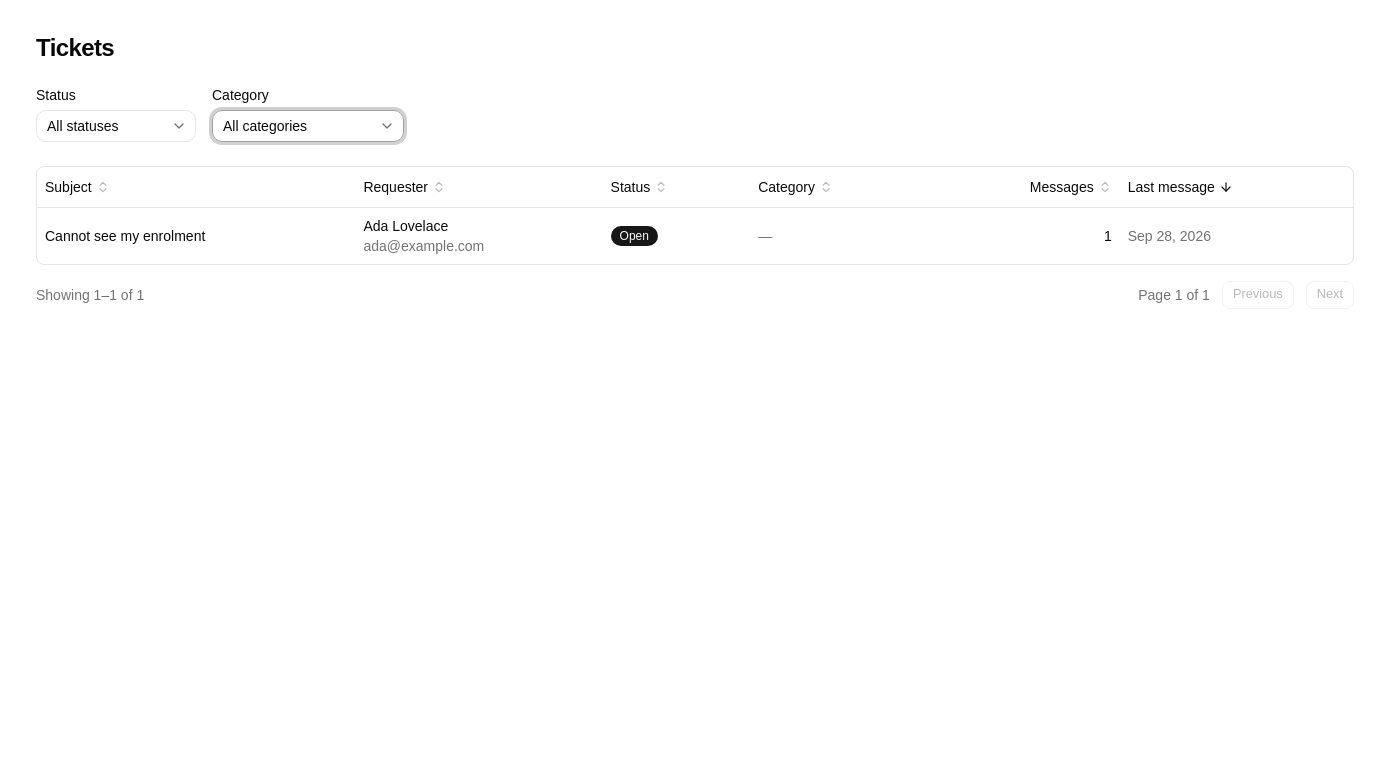
Test: TicketsPage › filters for uncategorised tickets through the select
Press Arrowdown
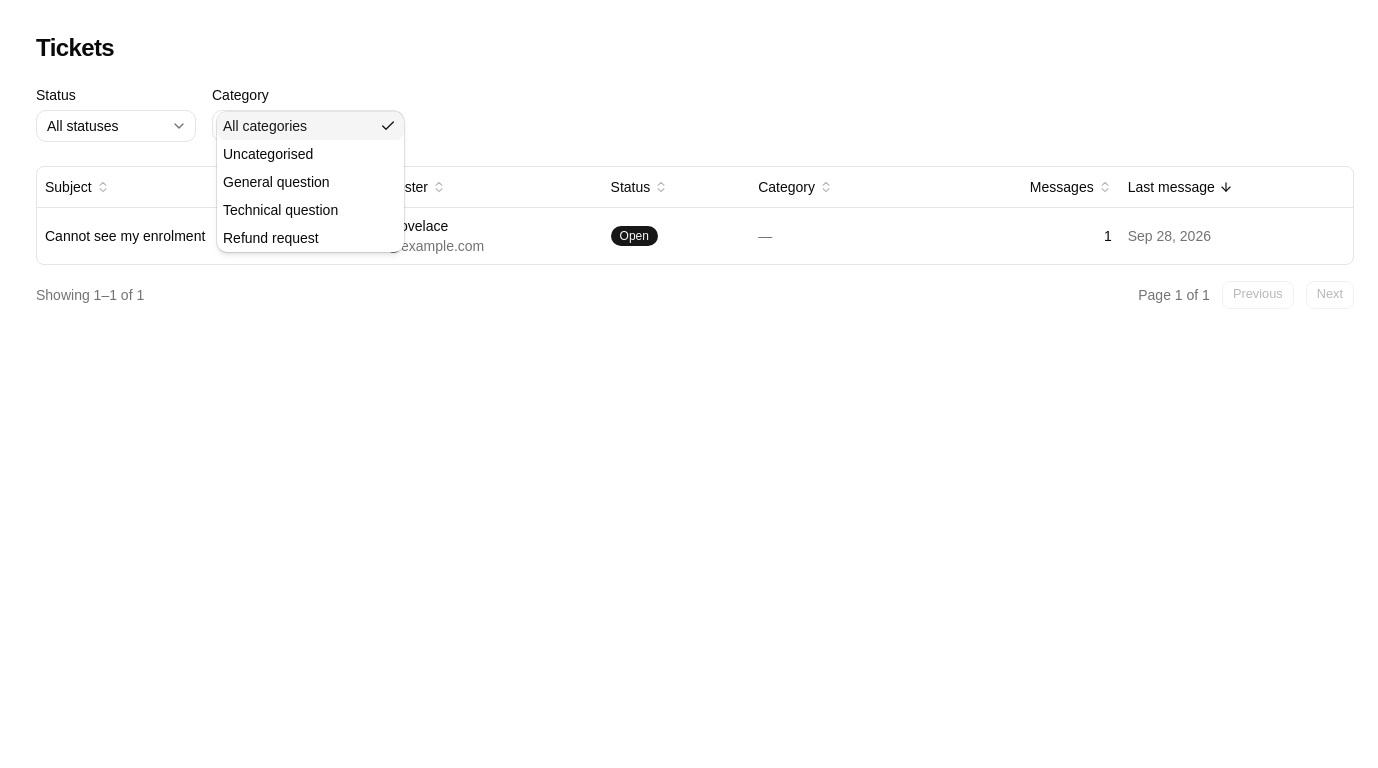
Click the option "Uncategorised". click: click(268, 154)
box: left=223, top=146, right=313, bottom=162
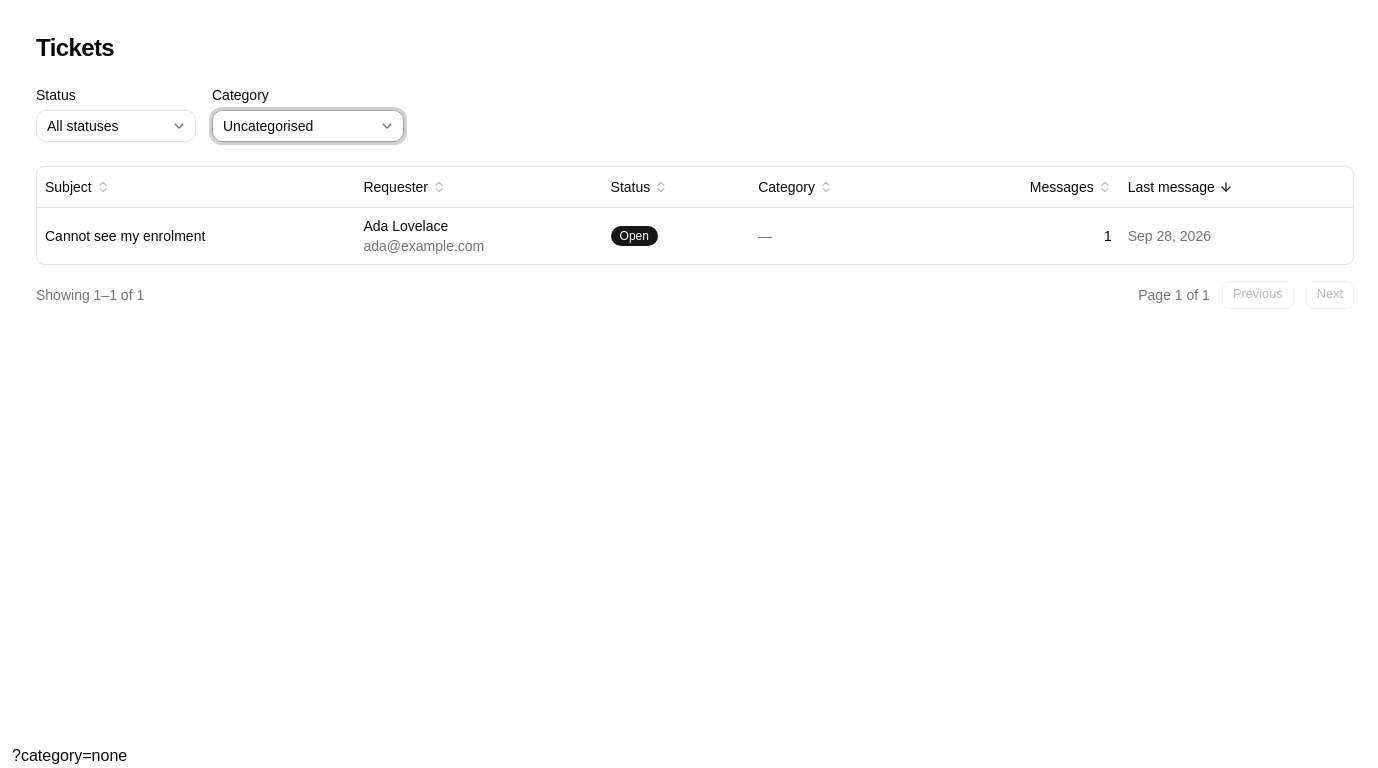
Expected: the text with test id "location-search" reads "?category=none", left=12, top=747, right=127, bottom=764
